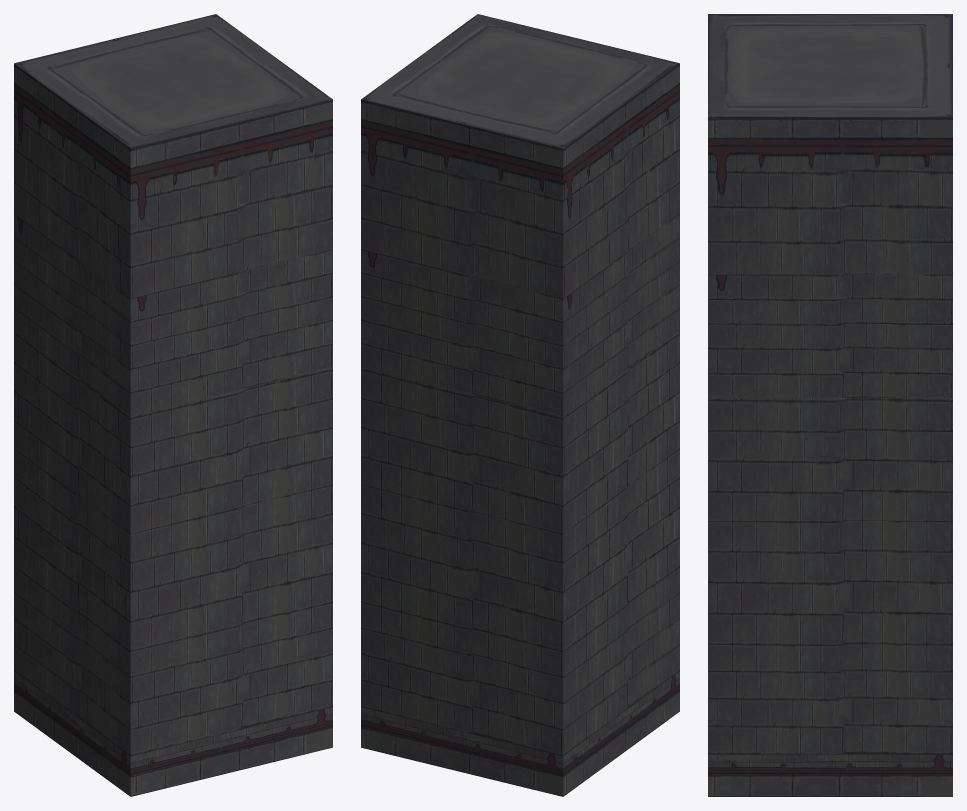
The model's file is Pillar_Square_01.glb.
The picture shows the model from 3 angles, left to right: view 1: azimuth 30°, elevation 25°; view 2: azimuth 150°, elevation 25°; view 3: azimuth 270°, elevation 25°; orthographic projection. The views are drawn at different scales.
Parts seen in each view (by area): view 1: Plane.010; view 2: Plane.010; view 3: Plane.010.
Boxes of the visible parts, x1=… form: Plane.010: x1=14, y1=14, x2=332, y2=796; Plane.010: x1=361, y1=14, x2=679, y2=796; Plane.010: x1=708, y1=14, x2=952, y2=796.
Bounding box in the file's own units: 4.05 × 12.41 × 4.05.
Materials: 1 (1 with a texture image).
